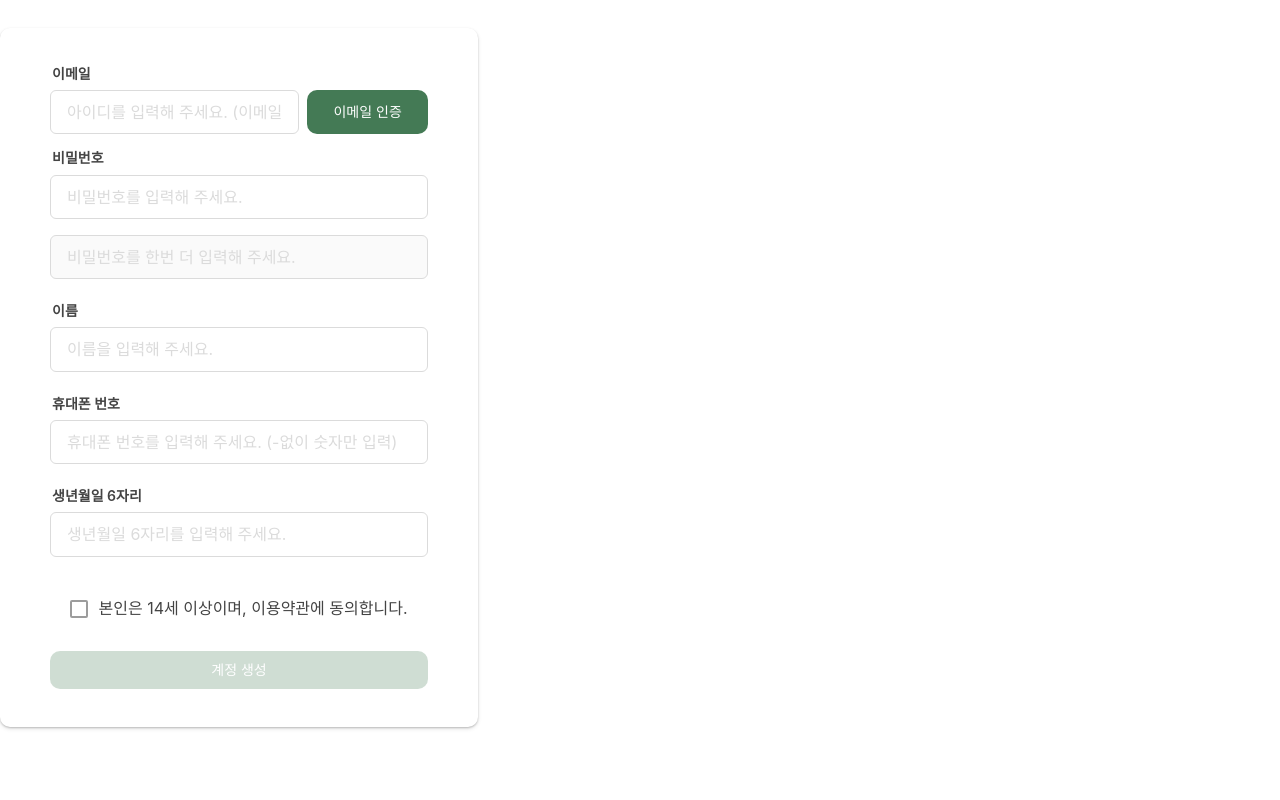
Test: JoinForm 컴포넌트 테스트 › 이메일 › 인증 시간이 다 지나면 인증 코드가 만료되었다는 메시지가 보여야 한다.
This screenshot has width=1280, height=800.
In the field labelled "이메일": (175, 112) x1=50 y1=90 x2=299 y2=134, type "example@gmail.com"
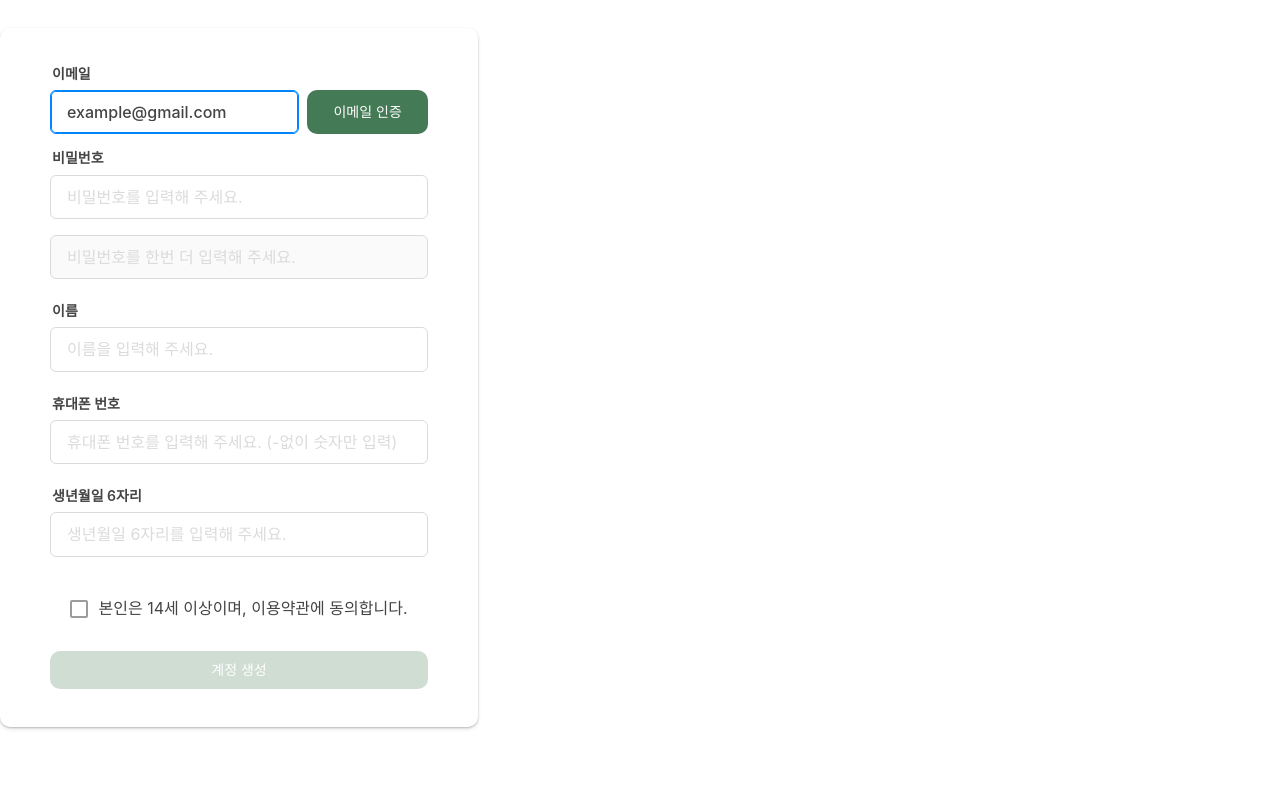
Click the button "이메일 인증": (368, 112) x1=307 y1=90 x2=428 y2=134
Wait 180000 ms
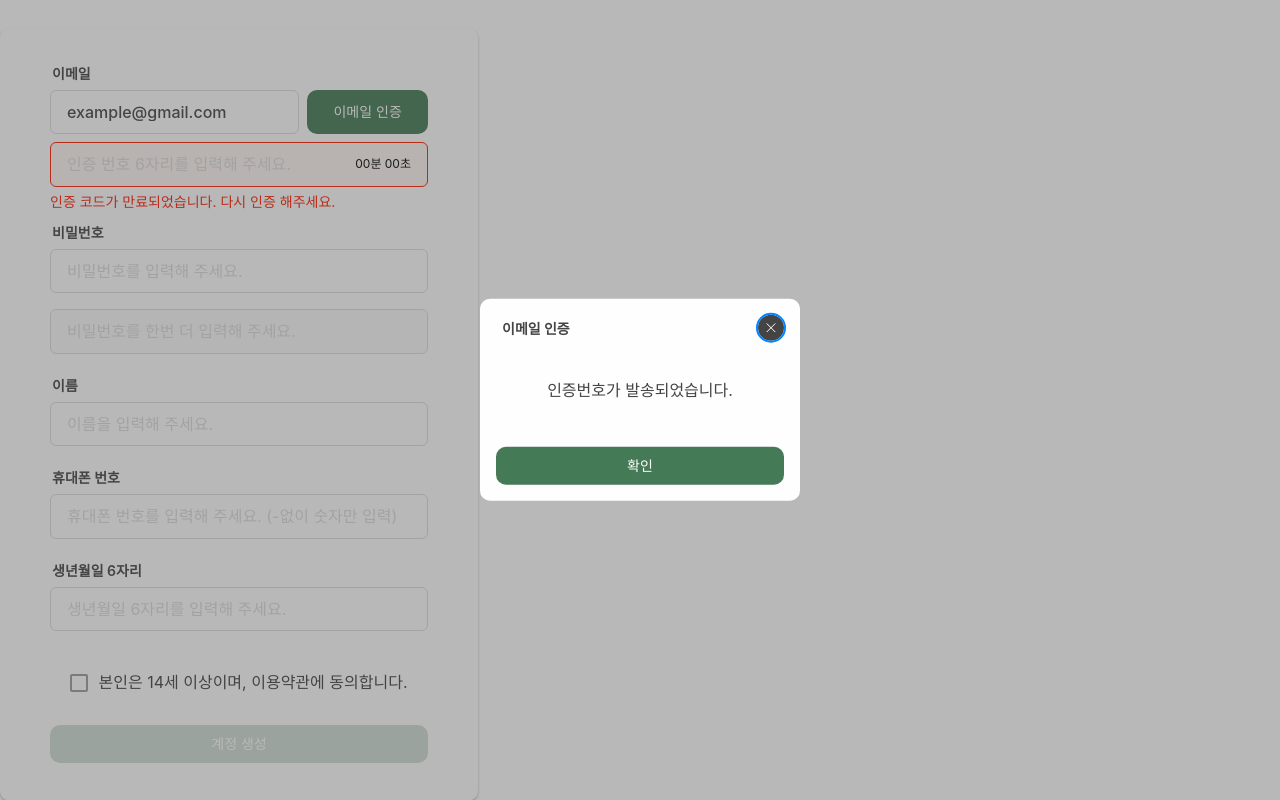
Now the text "00분 00초" is shown, box x1=355 y1=156 x2=411 y2=172
Now the text "인증 코드가 만료되었습니다. 다시 인증 해주세요." is shown, box x1=50 y1=193 x2=335 y2=210
